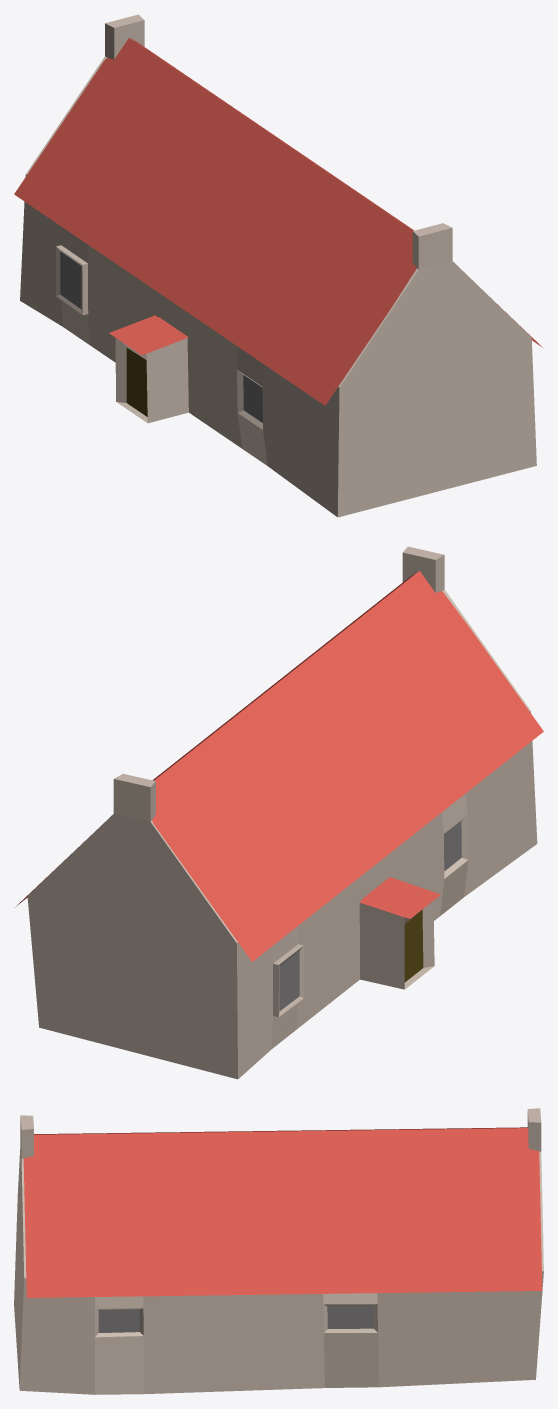
File: M_001.Modern Irish Cottage.fbx
The picture shows the model from 3 angles, top to bottom: view 1: azimuth 30°, elevation 25°; view 2: azimuth 150°, elevation 25°; view 3: azimuth 270°, elevation 25°; orthographic projection. The views are drawn at different scales.
Visible parts, largest first — view 1: Roof, House Walls, Little Roof; view 2: Roof, House Walls, Little Roof; view 3: Roof, House Walls.
Boxes of the visible parts, <box> form: Roof: <box>14,38,542,405</box>; House Walls: <box>20,14,536,517</box>; Little Roof: <box>109,315,188,355</box>; Roof: <box>14,571,543,961</box>; House Walls: <box>27,546,537,1079</box>; Little Roof: <box>360,877,440,918</box>; Roof: <box>23,1127,542,1297</box>; House Walls: <box>14,1108,543,1394</box>.
Bounding box in the file's own units: 440 × 405 × 863.
